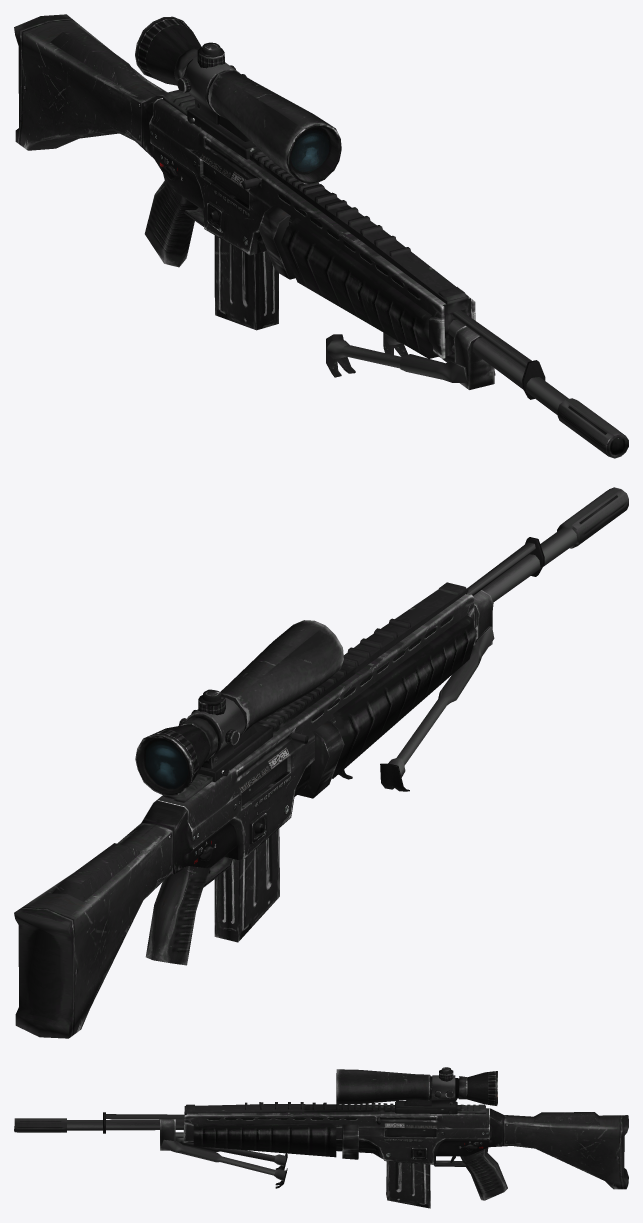
3 renders of one model, top to bottom at view 1: azimuth 30°, elevation 25°; view 2: azimuth 150°, elevation 25°; view 3: azimuth 270°, elevation 25°, orthographic. The views are drawn at different scales.
Parts seen in each view (by area): view 1: CSMachineGun_resources_assets_2111:CSMachineGun_0; view 2: CSMachineGun_resources_assets_2111:CSMachineGun_0; view 3: CSMachineGun_resources_assets_2111:CSMachineGun_0, Part_resources_assets_2236:Part_0.
Boxes of the visible parts, <box> form: CSMachineGun_resources_assets_2111:CSMachineGun_0: <box>14,14,628,458</box>; CSMachineGun_resources_assets_2111:CSMachineGun_0: <box>14,487,628,1038</box>; CSMachineGun_resources_assets_2111:CSMachineGun_0: <box>14,1067,628,1208</box>; Part_resources_assets_2236:Part_0: <box>384,1128,436,1137</box>.
Size of the model in its own units: 0.1064 by 0.3366 by 1.38.
